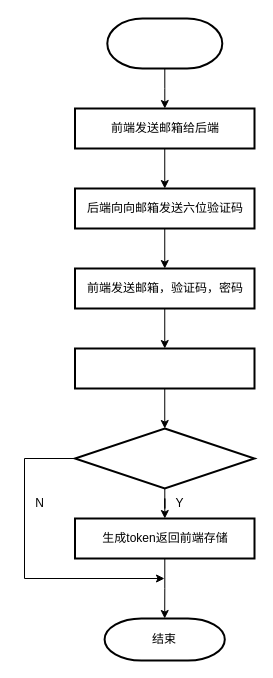
Some shapes in this 273 by 678 pixel diagram are drawn without their labels. Each missing label, with the centre of its shape:
"后端向区块链查询user信息" goes at [164,368].
"开始" goes at [164,43].
"该邮箱未被注册" goes at [164,458].
